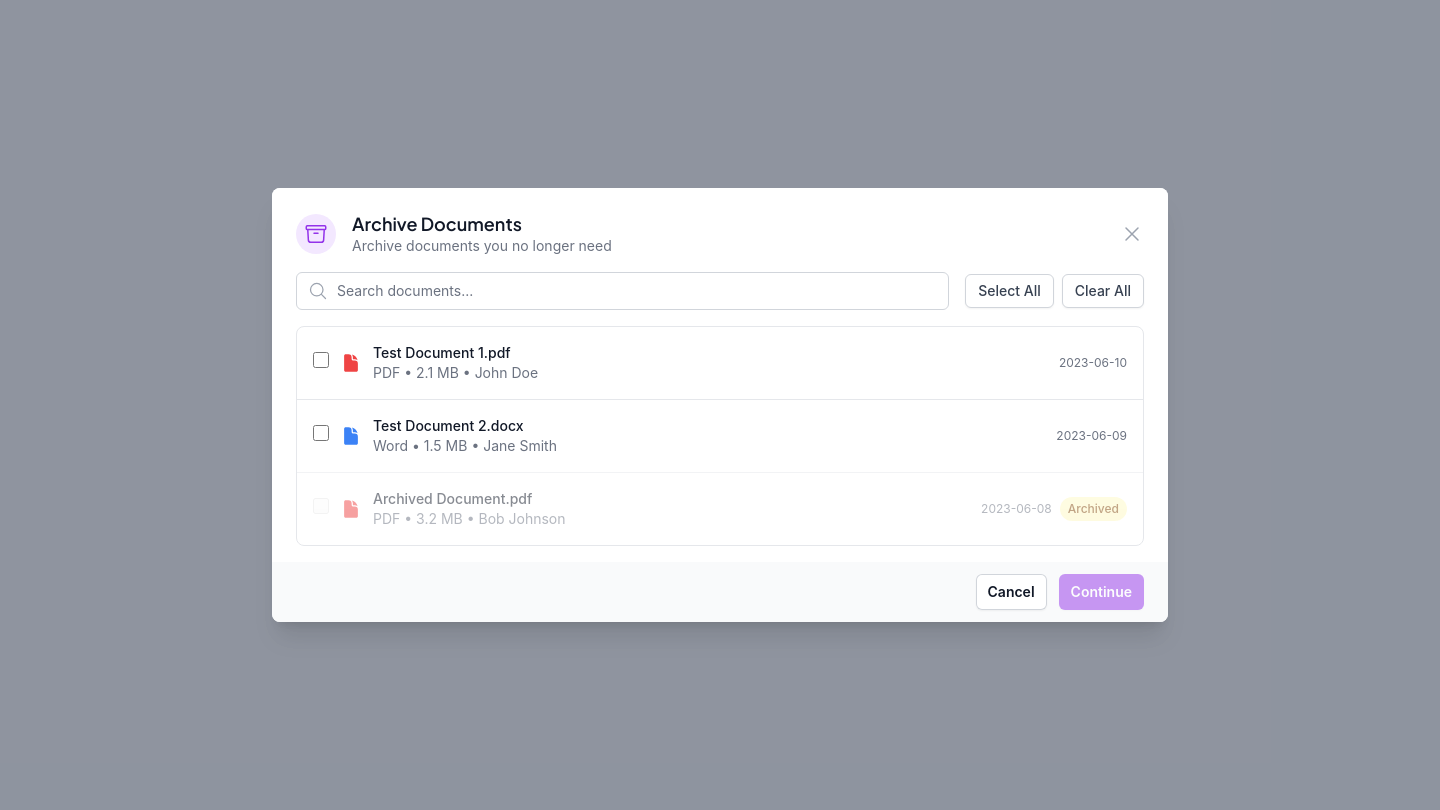
Test case: ArchiveDocumentsModal › allows document selection
The image size is (1440, 810).
Click the checkbox next to "Test Document 1.pdf" at (321,360), box top-left (313, 352), bottom-right (329, 368)
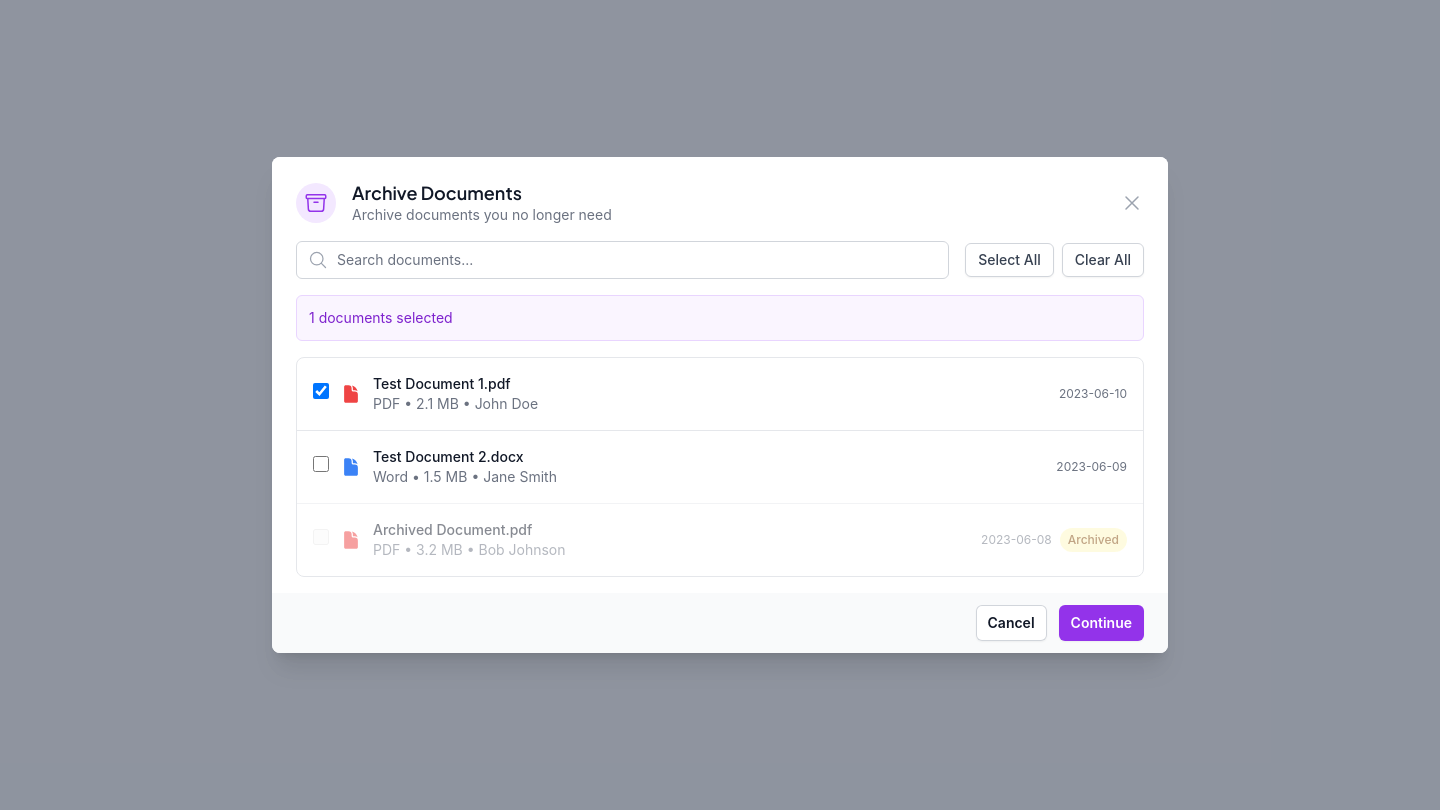
Expected: the checkbox next to "Test Document 1.pdf" is checked, top-left (313, 383), bottom-right (329, 399)
Expected: the text "1 documents selected" is shown, top-left (309, 309), bottom-right (453, 326)
